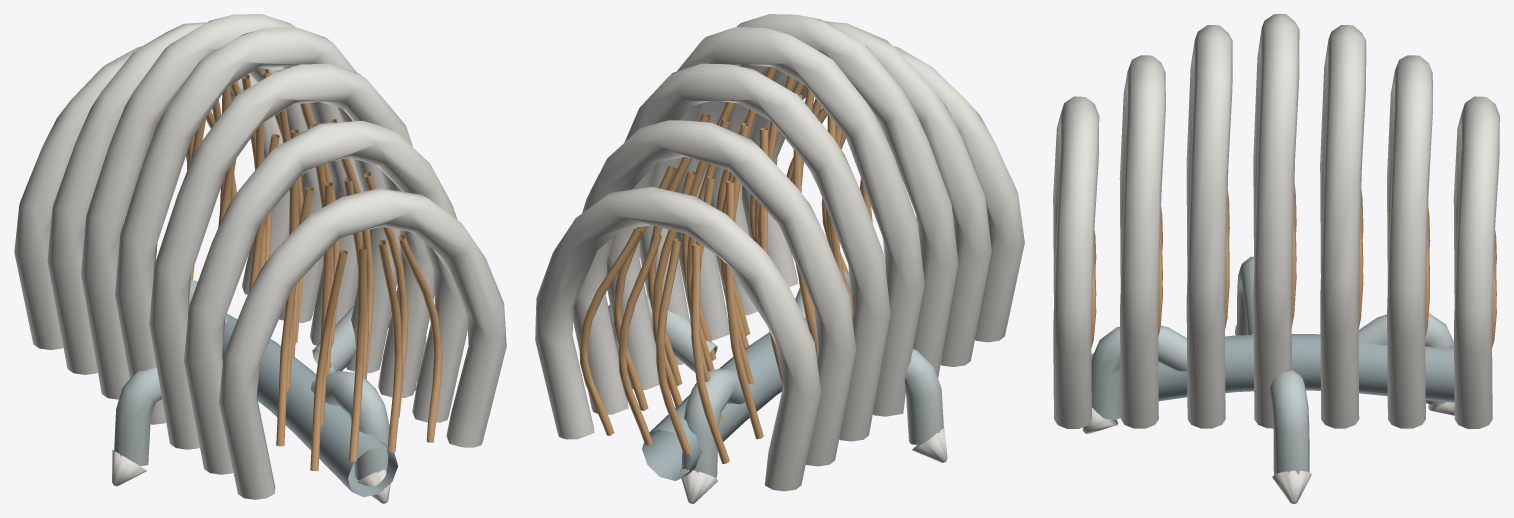
The model's file is bio_blind_harp_09_far.glb.
3 views of the same model, side by side, from view 1: azimuth 30°, elevation 25°; view 2: azimuth 150°, elevation 25°; view 3: azimuth 270°, elevation 25° (orthographic). The views are drawn at different scales.
Parts seen in each view (by area): view 1: Open rib arch, Open rib arch.001, Open rib arch.002, Open rib arch.003, Open rib arch.004, Open rib arch.005, Open rib arch.006, Resonance filament, Low axial spine, Resonance filament.004, Crooked support.002, Crooked support.001 (+6 smaller); view 2: Open rib arch.006, Open rib arch.005, Open rib arch.004, Open rib arch.003, Open rib arch.002, Open rib arch.001, Open rib arch, Resonance filament.024, Resonance filament.020, Low axial spine, Resonance filament.016, Crooked support (+7 smaller); view 3: Open rib arch.004, Open rib arch.002, Open rib arch.003, Open rib arch.005, Open rib arch.001, Open rib arch, Open rib arch.006, Low axial spine, Crooked support.003, Crooked support.002, Crooked support, Crooked support.001 (+4 smaller).
Part boxes in pixels (x1,y1,x2,y2): Open rib arch: [219, 188, 506, 499]; Open rib arch.001: [184, 120, 467, 474]; Open rib arch.002: [149, 64, 434, 449]; Open rib arch.003: [115, 27, 400, 424]; Open rib arch.004: [81, 14, 363, 399]; Open rib arch.005: [47, 22, 331, 374]; Open rib arch.006: [14, 46, 289, 349]; Resonance filament: [310, 235, 442, 471]; Low axial spine: [222, 314, 397, 497]; Resonance filament.004: [276, 172, 408, 446]; Crooked support.002: [310, 371, 389, 480]; Crooked support.001: [114, 367, 161, 465]; Open rib arch.006: [535, 187, 821, 491]; Open rib arch.005: [573, 120, 856, 466]; Open rib arch.004: [607, 63, 890, 441]; Open rib arch.003: [640, 27, 924, 416]; Open rib arch.002: [674, 14, 958, 377]; Open rib arch.001: [711, 21, 991, 366]; Open rib arch: [741, 46, 1024, 342]; Resonance filament.024: [579, 228, 729, 463]; Resonance filament.020: [613, 166, 763, 439]; Low axial spine: [642, 317, 808, 480]; Resonance filament.016: [647, 113, 782, 403]; Crooked support: [681, 368, 752, 478]; Open rib arch.004: [1320, 25, 1366, 428]; Open rib arch.002: [1186, 25, 1232, 428]; Open rib arch.003: [1253, 14, 1299, 428]; Open rib arch.005: [1387, 55, 1432, 428]; Open rib arch.001: [1119, 55, 1165, 428]; Open rib arch: [1053, 96, 1099, 428]; Open rib arch.006: [1453, 96, 1499, 428]; Low axial spine: [1091, 334, 1454, 402]; Crooked support.003: [1269, 370, 1309, 475]; Crooked support.002: [1091, 325, 1187, 419]; Crooked support: [1358, 313, 1453, 405]; Crooked support.001: [1237, 256, 1254, 335].
Bounding box in the file's own units: 2.01 × 2.32 × 2.35.
